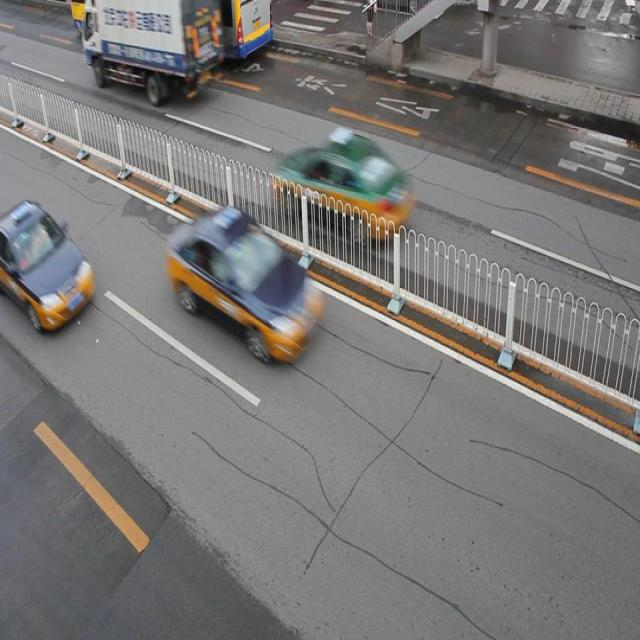bus: (84, 1, 223, 97)
car: (172, 207, 322, 357), (274, 132, 414, 246), (1, 200, 95, 330)
van: (70, 1, 272, 59)
